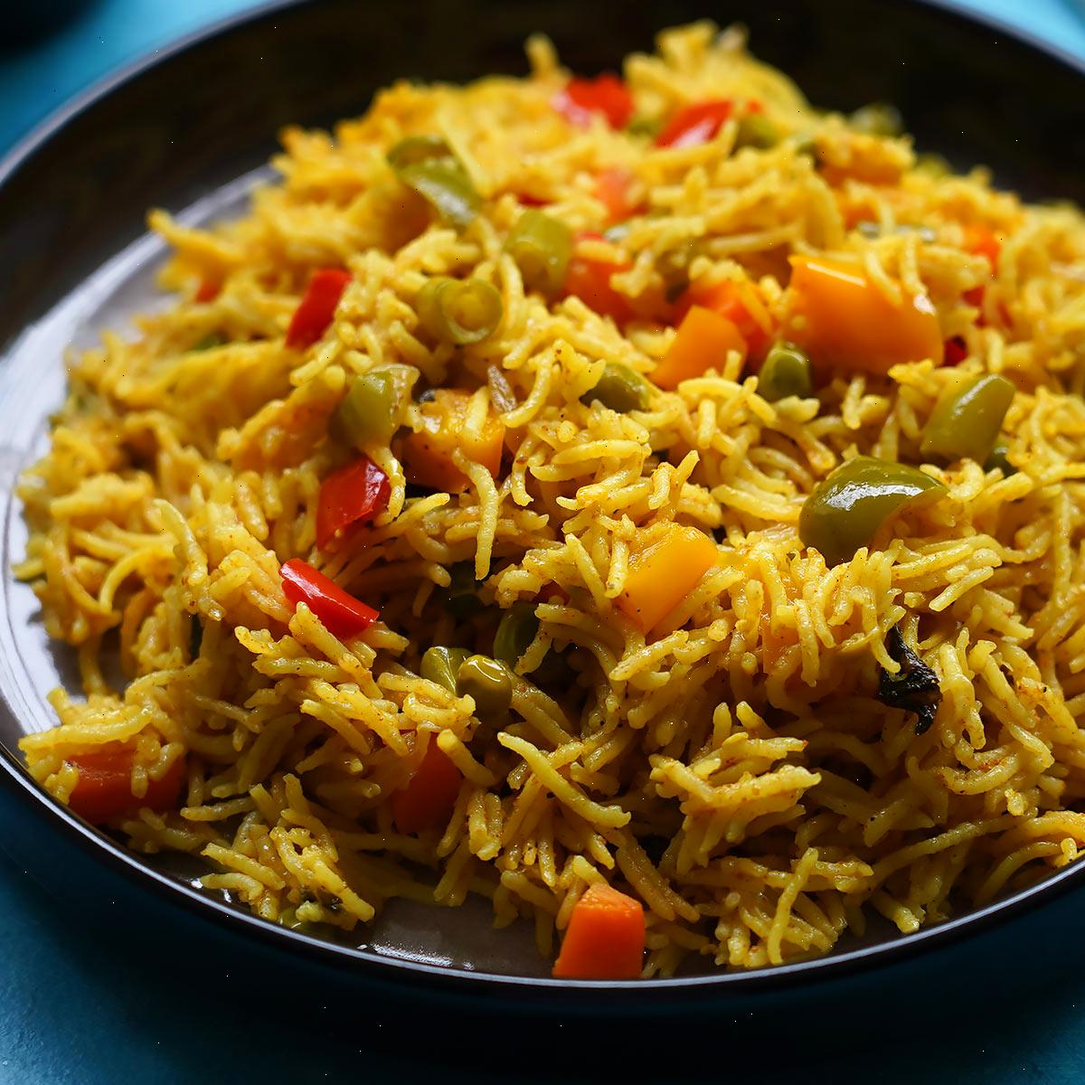veg-pulao: (37, 31, 1085, 944)
